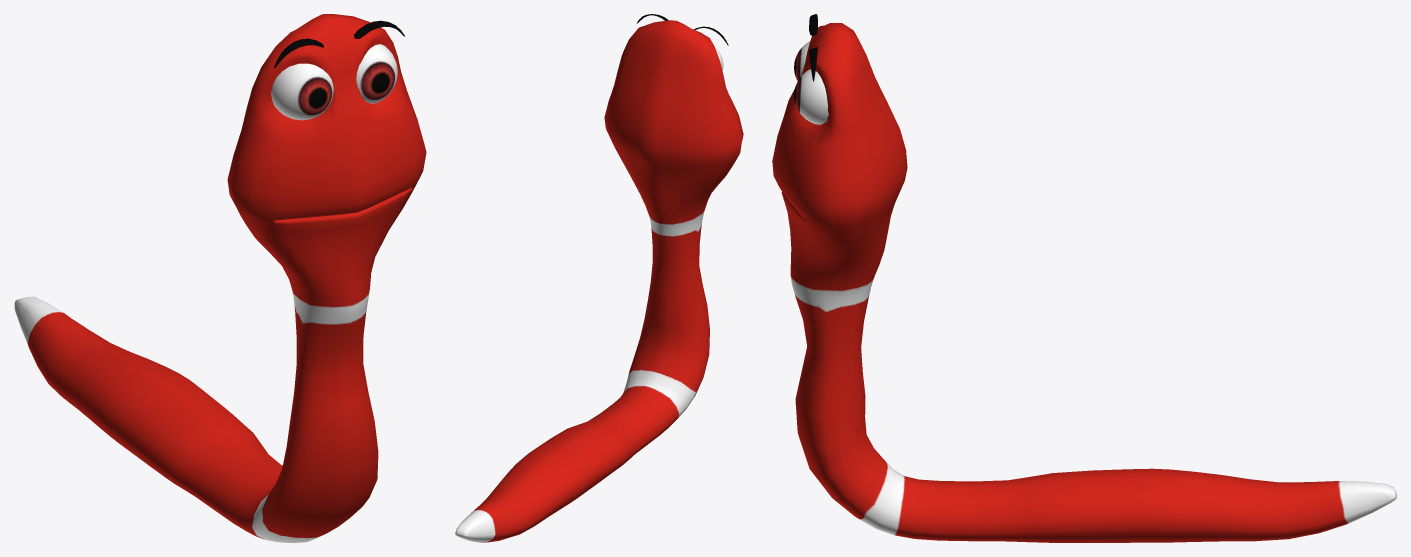
The model's file is worm-marketplace.glb.
3 views of the same model, side by side, from view 1: azimuth 30°, elevation 25°; view 2: azimuth 150°, elevation 25°; view 3: azimuth 270°, elevation 25° (orthographic). The views are drawn at different scales.
Visible parts, largest first — view 1: Object_2; view 2: Object_2; view 3: Object_2.
Part boxes in pixels (<box>): Object_2: <box>14,14,426,542</box>; Object_2: <box>455,14,743,542</box>; Object_2: <box>772,14,1396,542</box>.
Size of the model in its own units: 10.97 by 30.63 by 34.02.
1 material, 1 textured.
